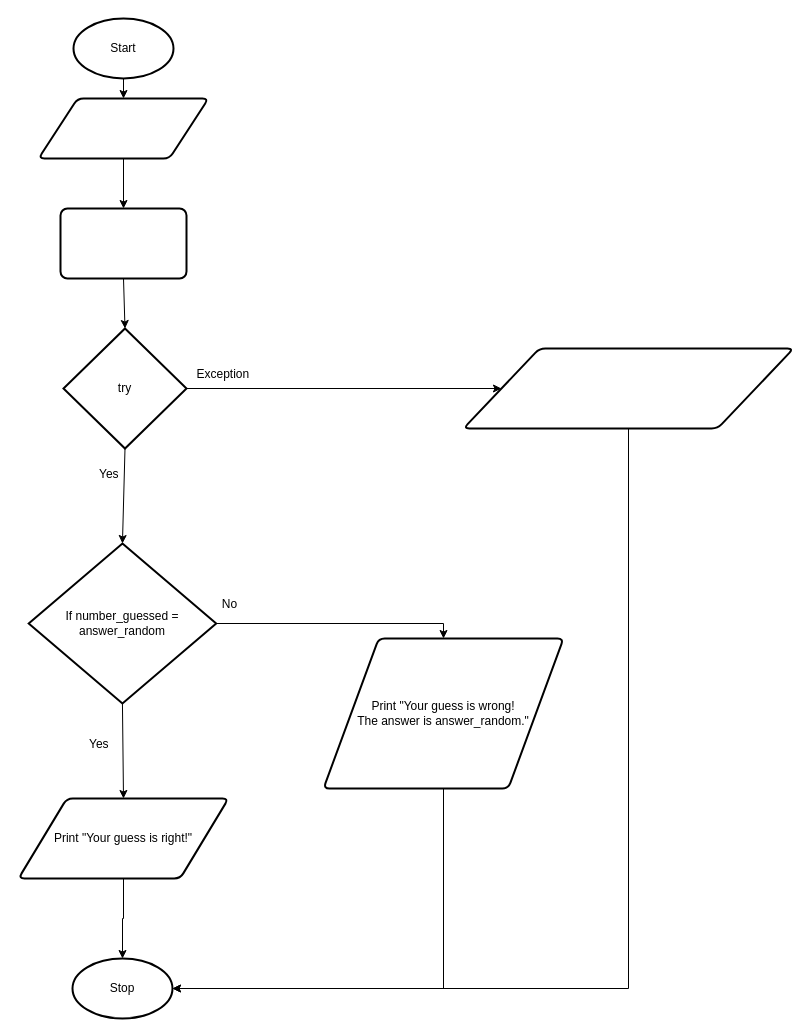
The diagram is 811 pixels wide and 1036 high, and some of its shapes have lost their labels. The box of each missing label's shape, as (x1, y1, x2, y2) in pixels:
Get answer_random: (59, 207, 187, 279)
Get number_guessed: (37, 97, 209, 159)
Print"number_guessed is not a number.": (462, 347, 794, 429)
